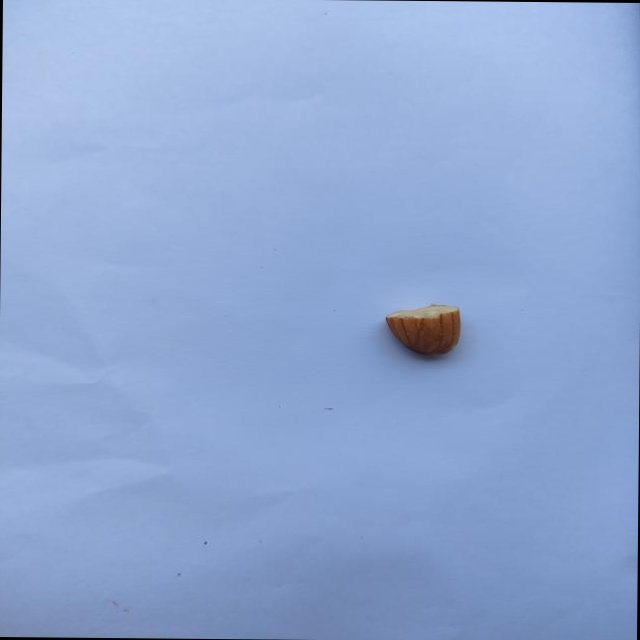grade4: (377, 300, 468, 363)
